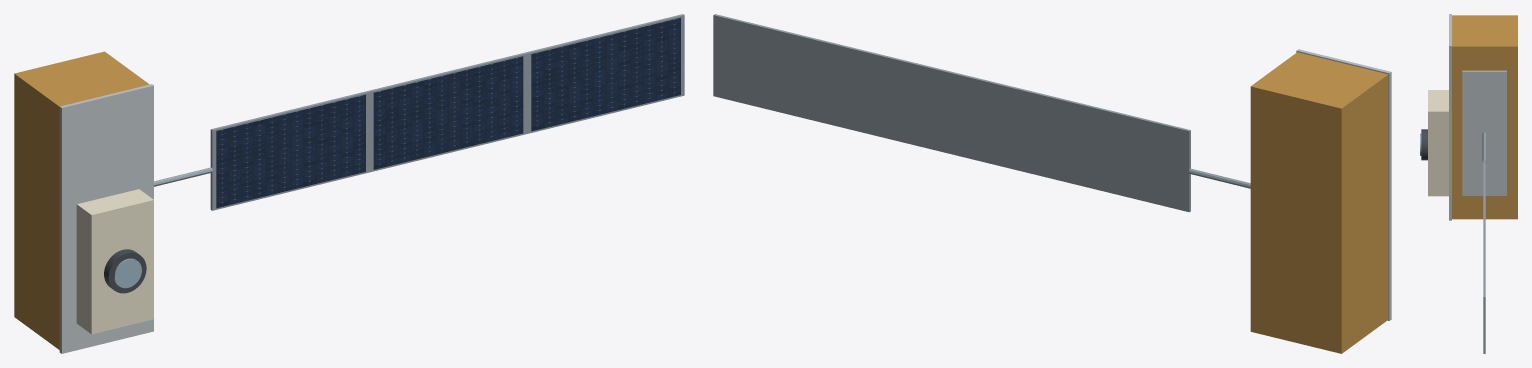
File: jpss-bcp-2000.glb
3 views of the same model, side by side, from view 1: azimuth 30°, elevation 25°; view 2: azimuth 150°, elevation 25°; view 3: azimuth 270°, elevation 25° (orthographic). The views are drawn at different scales.
Parts seen in each view (by area): view 1: Photovoltaic laminates (×3), Equipment module, Payload deck, Instrument housing, Array frame (×3), Optical baffle, Optical aperture; view 2: Array frame (×3), Equipment module, Payload deck; view 3: Equipment module, Thermal radiator, Instrument housing, Array frame (×3), Payload deck, Optical baffle, Solar array drive.
Boxes of the visible parts, x1=… form: Photovoltaic laminates (×3): x1=216, y1=18, x2=680, y2=208; Equipment module: x1=14, y1=51, x2=149, y2=349; Payload deck: x1=59, y1=84, x2=153, y2=353; Instrument housing: x1=76, y1=189, x2=153, y2=334; Array frame (×3): x1=210, y1=14, x2=684, y2=210; Optical baffle: x1=104, y1=249, x2=146, y2=293; Optical aperture: x1=114, y1=258, x2=141, y2=288; Array frame (×3): x1=713, y1=14, x2=1190, y2=212; Equipment module: x1=1250, y1=52, x2=1388, y2=353; Payload deck: x1=1296, y1=49, x2=1391, y2=320; Equipment module: x1=1452, y1=15, x2=1517, y2=219; Thermal radiator: x1=1462, y1=70, x2=1506, y2=195; Instrument housing: x1=1428, y1=90, x2=1448, y2=196; Array frame (×3): x1=1483, y1=133, x2=1485, y2=353; Payload deck: x1=1449, y1=14, x2=1451, y2=220; Optical baffle: x1=1421, y1=129, x2=1427, y2=160; Solar array drive: x1=1482, y1=132, x2=1486, y2=162.
Bounding box in the file's own units: 10.01 × 3.64 × 1.85.
Materials: 7 (1 with a texture image).
